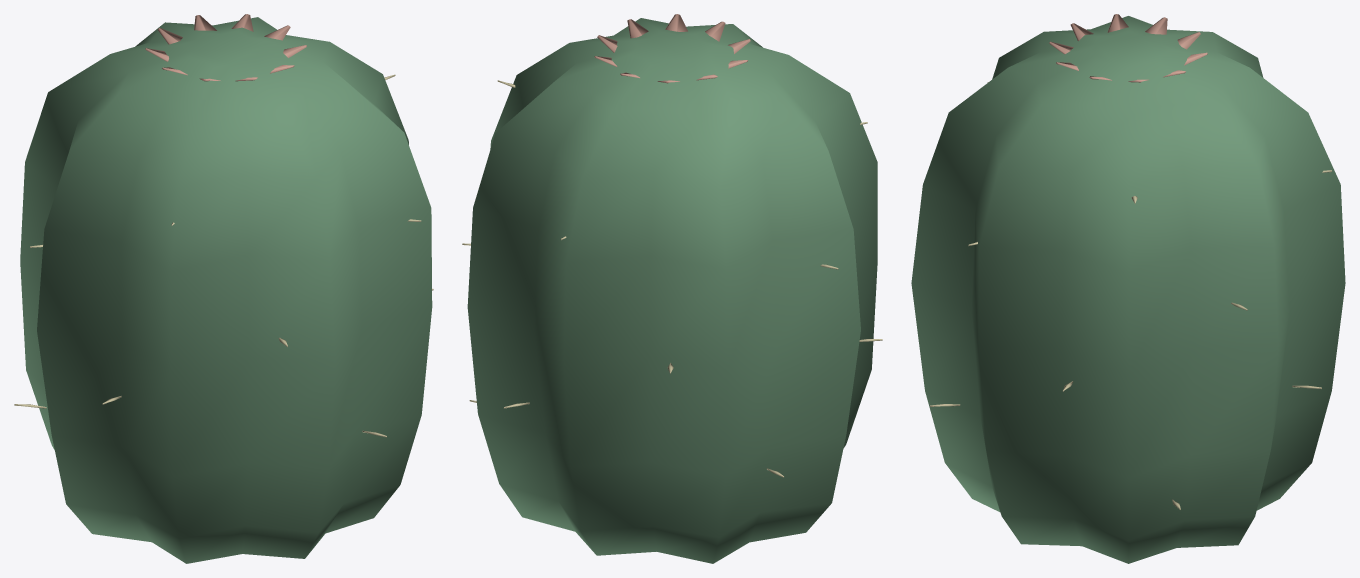
The model's file is cactus_barrel.glb.
3 renders of one model, left to right at view 1: azimuth 30°, elevation 25°; view 2: azimuth 150°, elevation 25°; view 3: azimuth 270°, elevation 25°, orthographic.
Parts seen in each view (by area): view 1: cactus_barrel; view 2: cactus_barrel; view 3: cactus_barrel.
Part boxes in pixels (box(x1,y1,x2,y2)): cactus_barrel: box(14, 14, 433, 563); cactus_barrel: box(462, 14, 882, 563); cactus_barrel: box(911, 14, 1345, 563).
Size of the model in its own units: 1.09 by 1.25 by 1.09.
